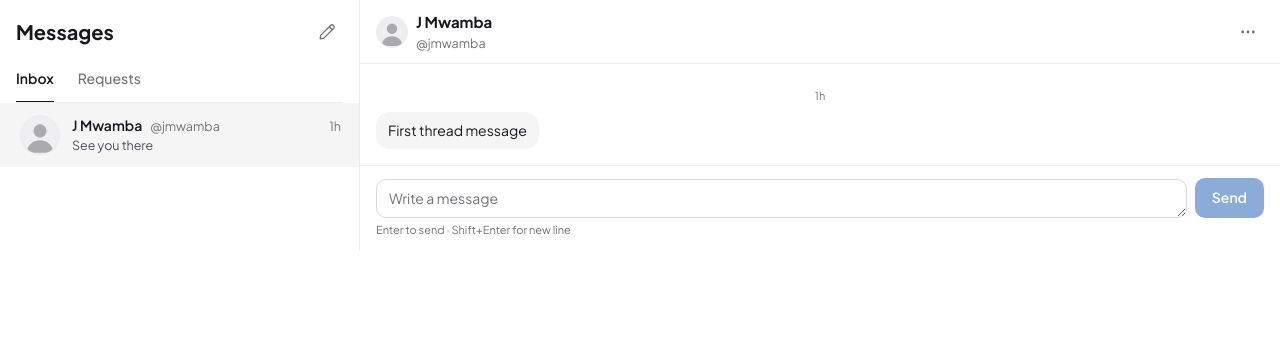
Test: a conversation › appends the message immediately on Send without waiting for the RPC or refetching the thread
Expected: the text "First thread message" is shown, [376, 112, 539, 149]
Type "Instant reply" into the text box labelled "message". click: (781, 198)
box: [376, 179, 1187, 218]
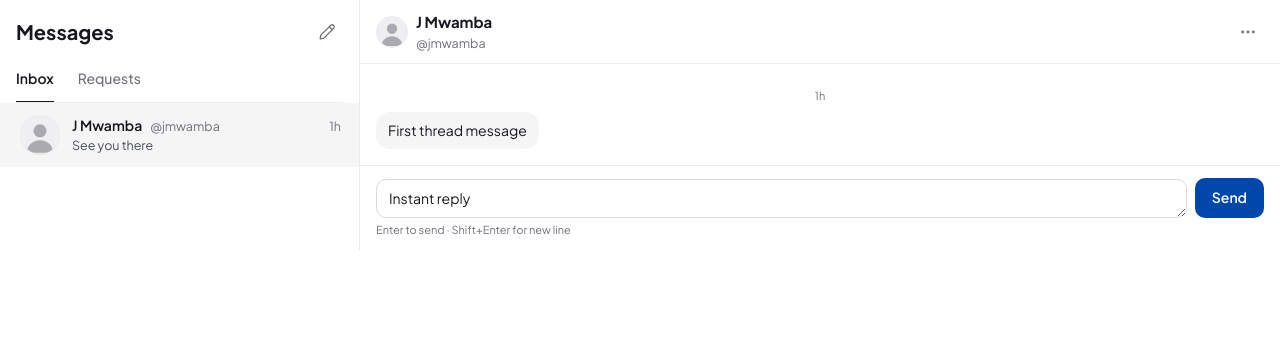
Press Enter in the text box named "message", box [376, 179, 1187, 218]
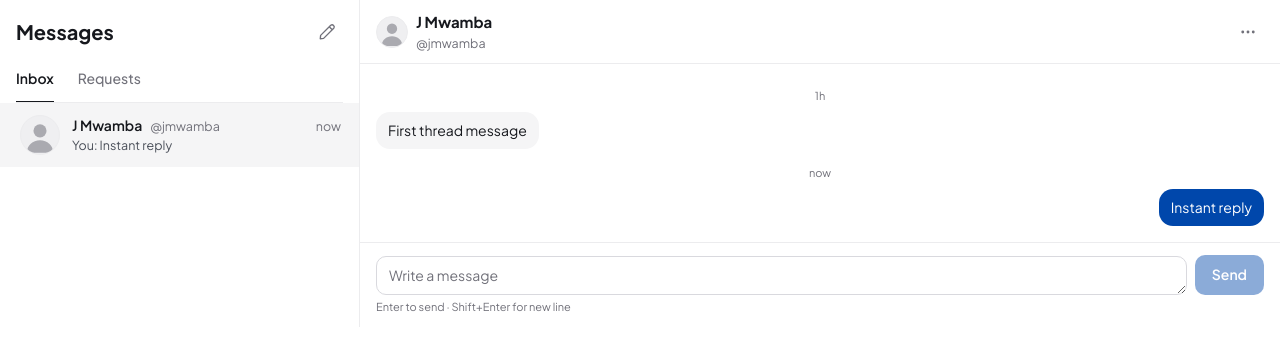
Expected: the text box labelled "message" is empty, [376, 256, 1187, 295]
Expected: the text "Instant reply" is shown, [1159, 189, 1264, 226]
